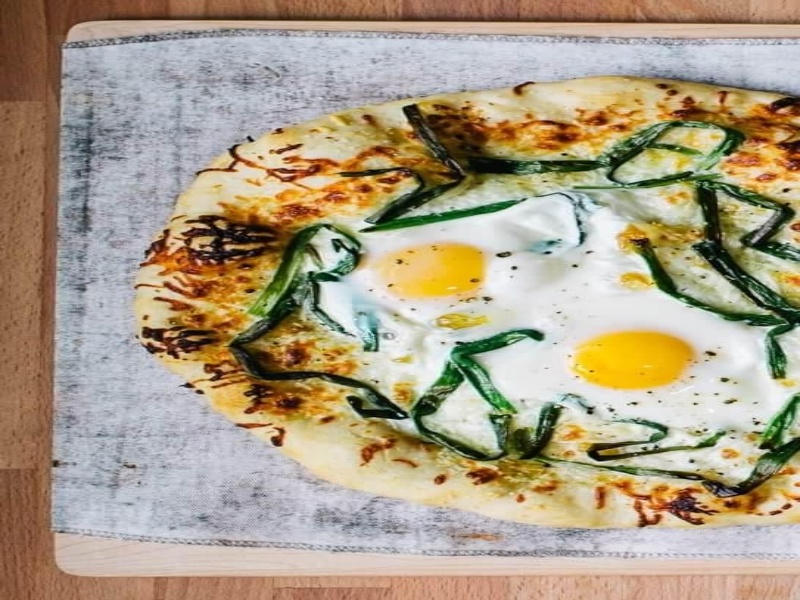oeuf: (548, 315, 710, 404), (370, 237, 520, 319)
